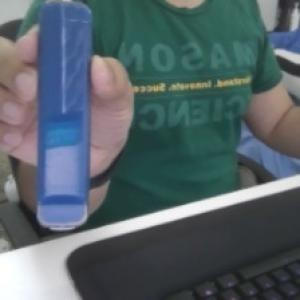Diamond-E-Ciggirate: (34, 0, 92, 235)
